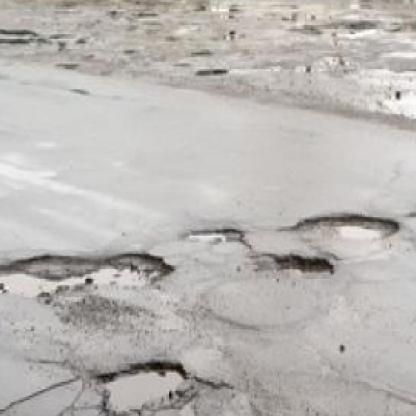pothole: (0, 249, 175, 304), (98, 361, 187, 416), (275, 215, 399, 243), (245, 251, 336, 287), (181, 226, 247, 245)
